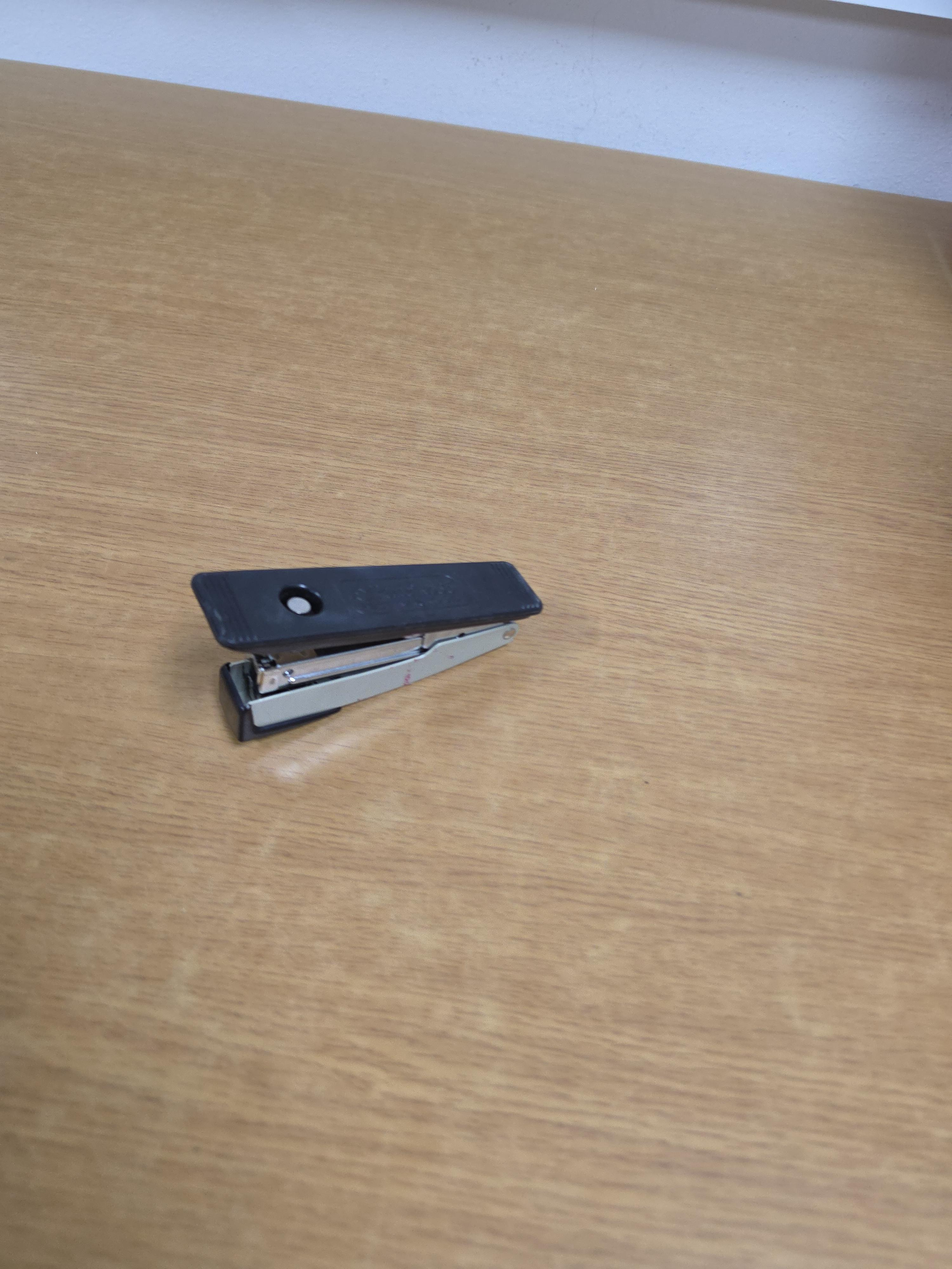stapler: (191, 560, 544, 742)
